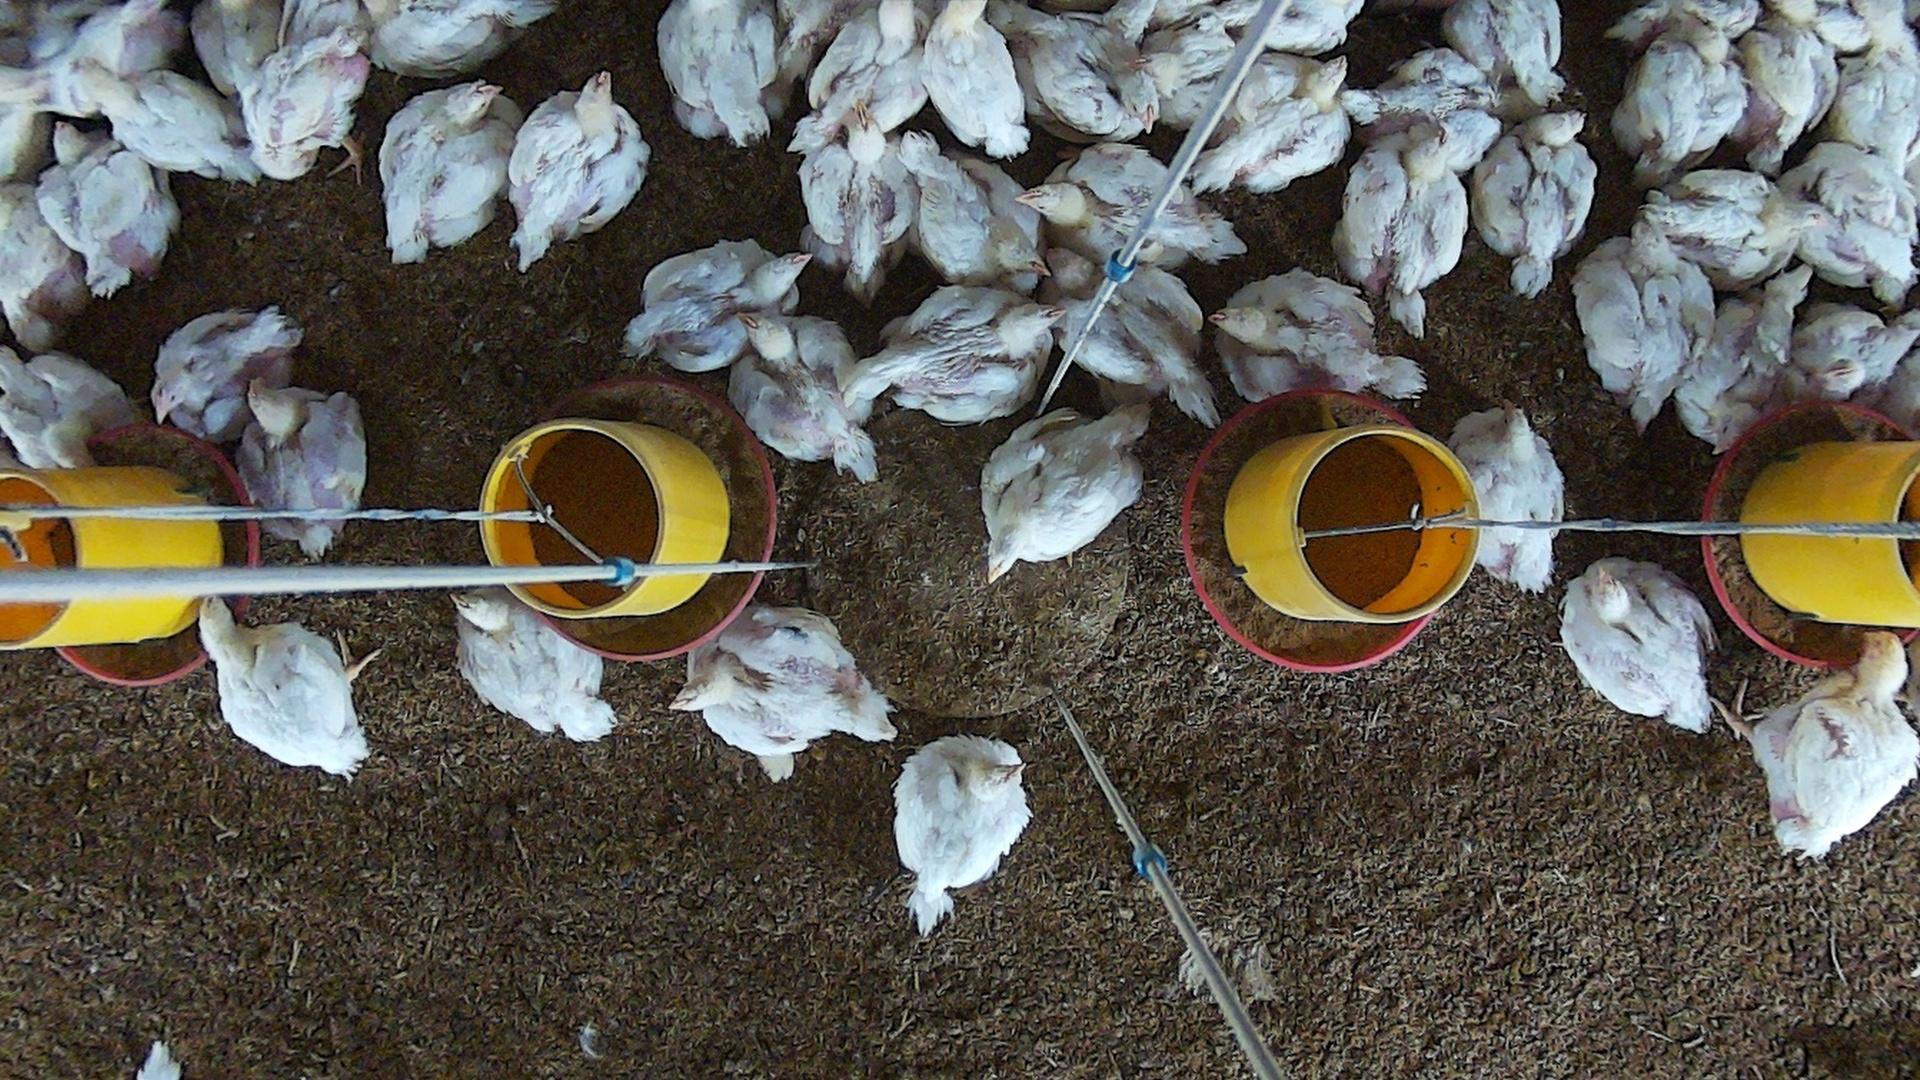ayam_broiler: (1713, 630, 1917, 857), (674, 603, 895, 750), (202, 599, 372, 774), (1335, 123, 1474, 335), (843, 286, 1051, 425), (506, 70, 650, 269), (1573, 224, 1712, 430), (1215, 269, 1424, 404), (1033, 141, 1247, 272), (980, 407, 1147, 575), (1052, 262, 1217, 429), (893, 736, 1030, 934), (1561, 558, 1714, 729), (796, 100, 920, 306), (732, 311, 881, 481), (37, 121, 179, 297), (622, 239, 806, 373), (380, 80, 514, 262), (1676, 270, 1808, 452), (455, 593, 615, 741), (1182, 53, 1349, 193), (1474, 116, 1596, 295), (241, 386, 367, 559), (902, 137, 1043, 289), (794, 0, 930, 156), (241, 15, 369, 179), (1611, 24, 1749, 175), (152, 307, 302, 440), (1341, 51, 1501, 175), (1791, 148, 1919, 302), (1456, 407, 1563, 592), (1646, 169, 1817, 282), (95, 70, 256, 178), (1021, 9, 1154, 140), (658, 0, 777, 146), (923, 0, 1030, 157), (20, 0, 179, 104), (0, 345, 135, 468), (1833, 13, 1920, 166), (1145, 15, 1261, 128), (1745, 26, 1838, 166), (1441, 0, 1564, 105), (0, 181, 74, 349), (1789, 303, 1920, 398), (37, 0, 183, 80), (367, 1, 512, 75), (191, 0, 272, 103), (1237, 0, 1365, 54), (0, 67, 49, 191)
